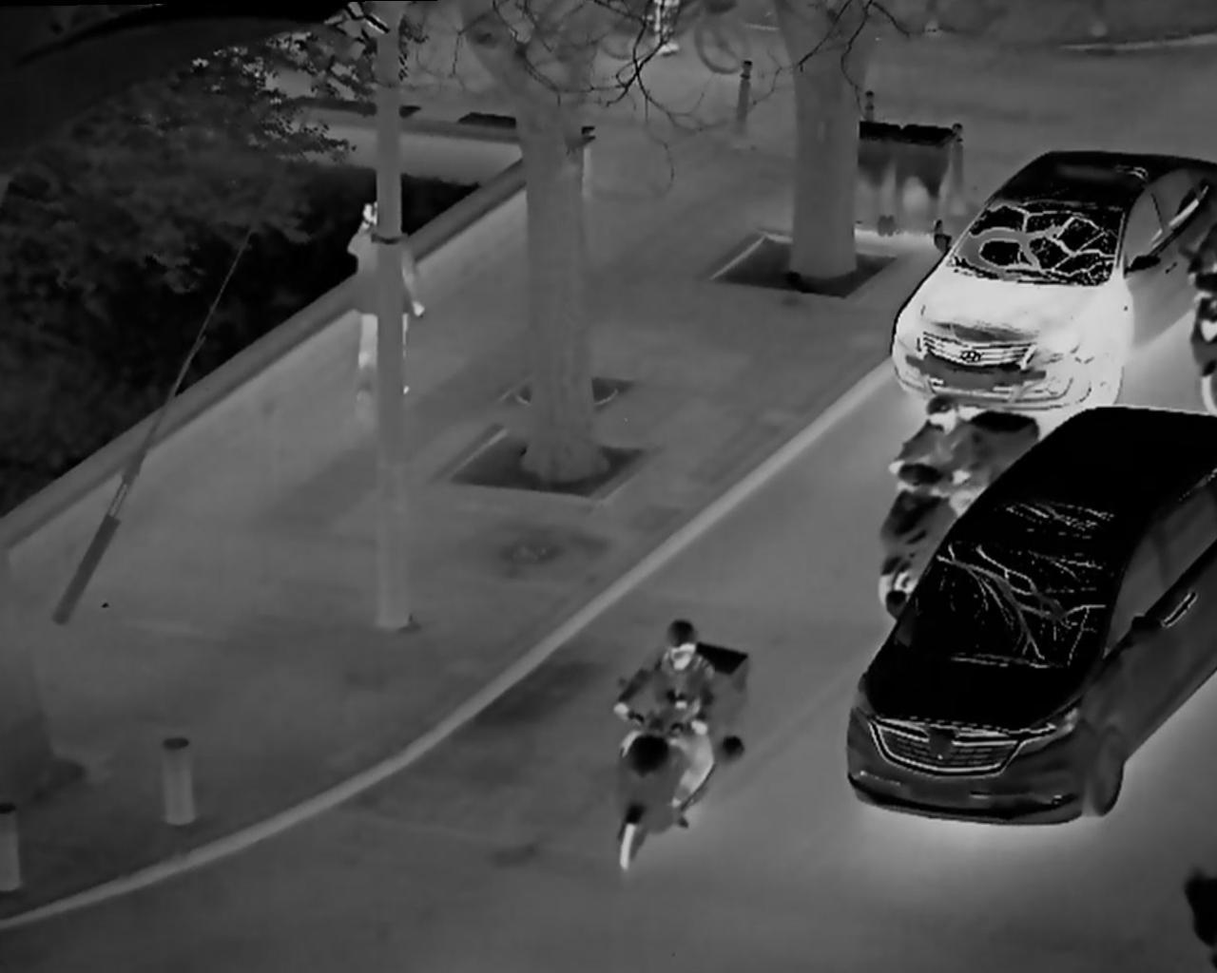person: (604, 601, 739, 852), (884, 379, 984, 573), (341, 198, 425, 409)
